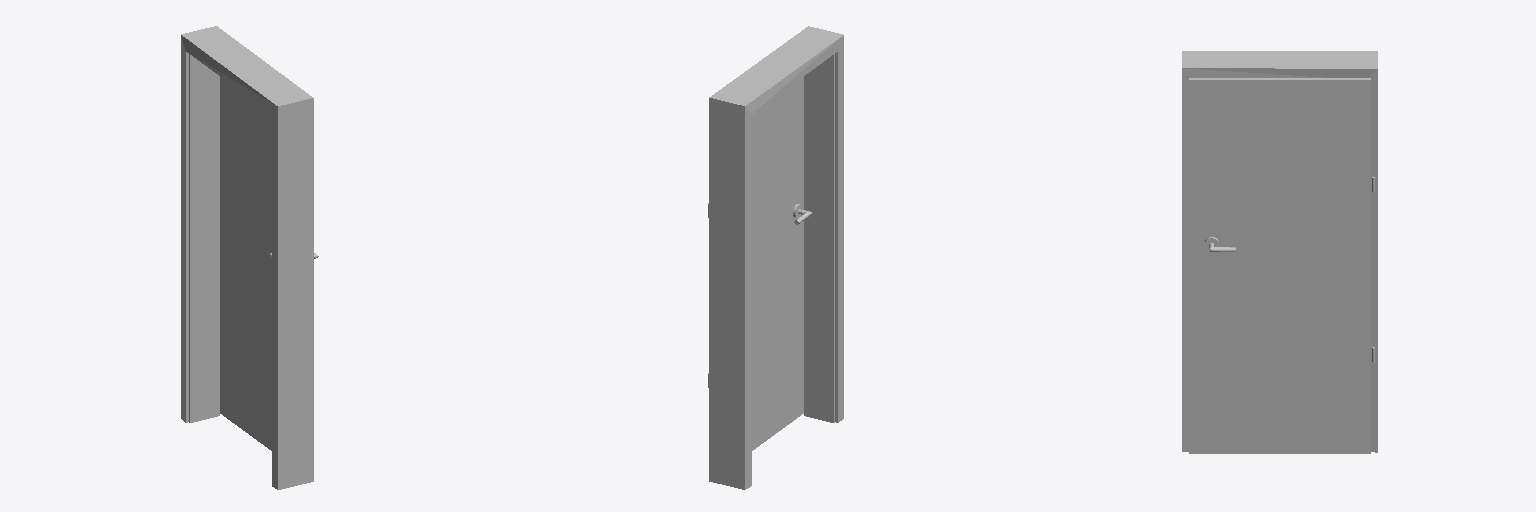
File: door9.obj
3 views of the same model, side by side, from view 1: azimuth 30°, elevation 25°; view 2: azimuth 150°, elevation 25°; view 3: azimuth 270°, elevation 25° (orthographic).
Visible parts, largest first — view 1: Cylinder.005, Cylinder.001; view 2: Cylinder.005, Cylinder.001; view 3: Cylinder.001, Cylinder.005.
Part boxes in pixels (bbox=[...]): Cylinder.005: bbox=[181, 26, 313, 489]; Cylinder.001: bbox=[220, 77, 271, 450]; Cylinder.005: bbox=[708, 26, 843, 489]; Cylinder.001: bbox=[708, 77, 803, 450]; Cylinder.001: bbox=[1189, 78, 1374, 453]; Cylinder.005: bbox=[1182, 51, 1377, 452].
Bounding box in the file's own units: 0.3039 × 2.05 × 0.95.